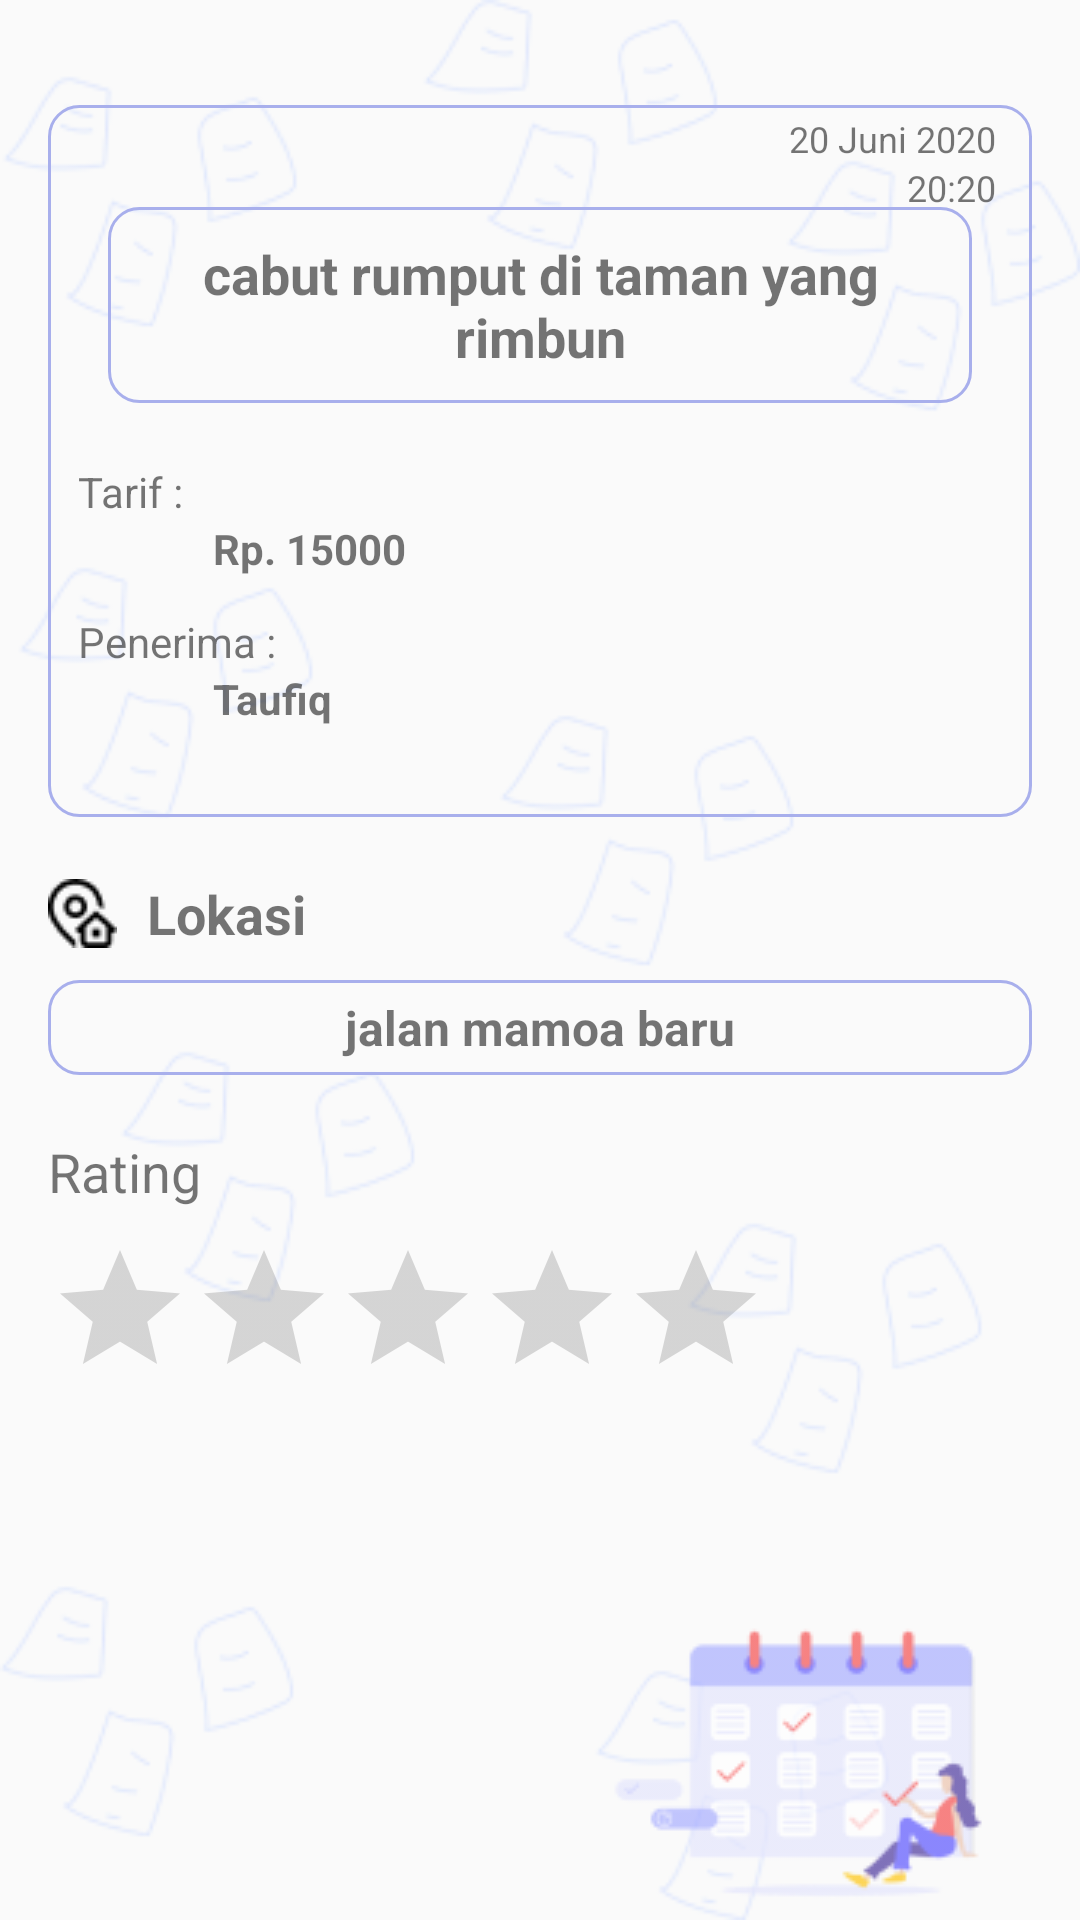

Screen size 1080×1920. Icon name, then its box in pixels as (x1, y1, x2, y2):
multitasking: (625, 1631, 982, 1888)
